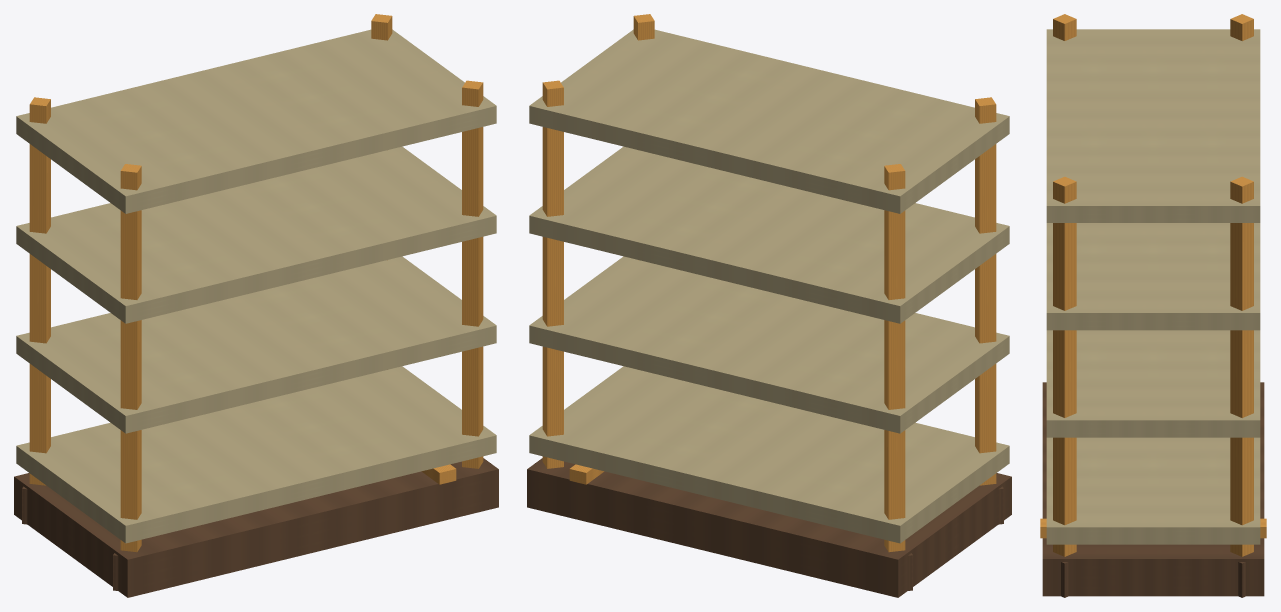
The model's file is atlas100-s014-a06.lod2.glb.
3 views of the same model, side by side, from view 1: azimuth 30°, elevation 25°; view 2: azimuth 150°, elevation 25°; view 3: azimuth 270°, elevation 25° (orthographic). The views are drawn at different scales.
Parts seen in each view (by area): view 1: atlas100-s014-a06:part-014, atlas100-s014-a06:part-011, atlas100-s014-a06:part-013, atlas100-s014-a06:part-012, atlas100-s014-a06:part-000, atlas100-s014-a06:part-005, atlas100-s014-a06:part-009, atlas100-s014-a06:part-003; view 2: atlas100-s014-a06:part-014, atlas100-s014-a06:part-011, atlas100-s014-a06:part-013, atlas100-s014-a06:part-012, atlas100-s014-a06:part-000, atlas100-s014-a06:part-003, atlas100-s014-a06:part-007, atlas100-s014-a06:part-005; view 3: atlas100-s014-a06:part-014, atlas100-s014-a06:part-013, atlas100-s014-a06:part-012, atlas100-s014-a06:part-011, atlas100-s014-a06:part-000, atlas100-s014-a06:part-007, atlas100-s014-a06:part-009, atlas100-s014-a06:part-003, atlas100-s014-a06:part-005.
Part boxes in pixels (left/top/right/bottom): atlas100-s014-a06:part-014: left=16, top=29, right=496, bottom=213; atlas100-s014-a06:part-011: left=16, top=366, right=496, bottom=543; atlas100-s014-a06:part-013: left=16, top=146, right=496, bottom=323; atlas100-s014-a06:part-012: left=16, top=256, right=496, bottom=433; atlas100-s014-a06:part-000: left=14, top=458, right=498, bottom=597; atlas100-s014-a06:part-005: left=120, top=164, right=141, bottom=552; atlas100-s014-a06:part-009: left=462, top=80, right=483, bottom=468; atlas100-s014-a06:part-003: left=29, top=97, right=50, bottom=485; atlas100-s014-a06:part-014: left=529, top=29, right=1009, bottom=213; atlas100-s014-a06:part-011: left=529, top=366, right=1009, bottom=543; atlas100-s014-a06:part-013: left=529, top=146, right=1009, bottom=323; atlas100-s014-a06:part-012: left=529, top=256, right=1009, bottom=433; atlas100-s014-a06:part-000: left=527, top=458, right=1011, bottom=597; atlas100-s014-a06:part-003: left=884, top=164, right=905, bottom=552; atlas100-s014-a06:part-007: left=542, top=80, right=563, bottom=468; atlas100-s014-a06:part-005: left=975, top=97, right=996, bottom=485; atlas100-s014-a06:part-014: left=1046, top=29, right=1260, bottom=222; atlas100-s014-a06:part-013: left=1046, top=223, right=1260, bottom=330; atlas100-s014-a06:part-012: left=1046, top=330, right=1260, bottom=437; atlas100-s014-a06:part-011: left=1046, top=437, right=1260, bottom=544; atlas100-s014-a06:part-000: left=1042, top=382, right=1264, bottom=596; atlas100-s014-a06:part-007: left=1230, top=176, right=1253, bottom=556; atlas100-s014-a06:part-009: left=1053, top=176, right=1076, bottom=556; atlas100-s014-a06:part-003: left=1230, top=14, right=1253, bottom=40; atlas100-s014-a06:part-005: left=1053, top=14, right=1076, bottom=40.
Bounding box in the file's own units: 2.69 × 2.84 × 1.43.
3 materials, 3 textured.
